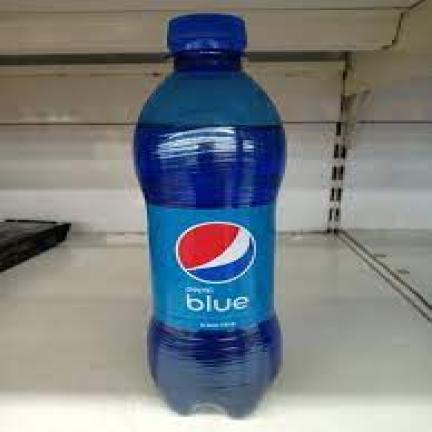container: (134, 13, 283, 415)
fluid: (134, 127, 281, 415)
fluid-surface: (136, 120, 281, 130)
